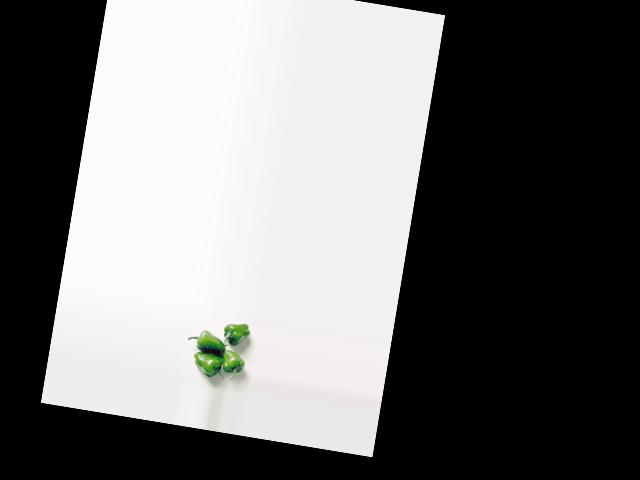bell_pepper: (221, 347, 246, 380)
